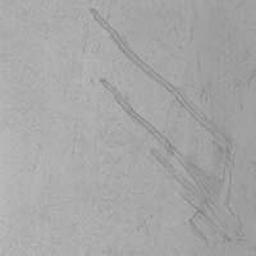Water spot: (90, 8, 250, 248)
